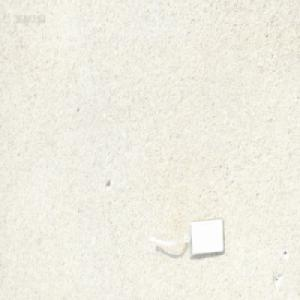LuggageTag: (148, 215, 225, 258)
